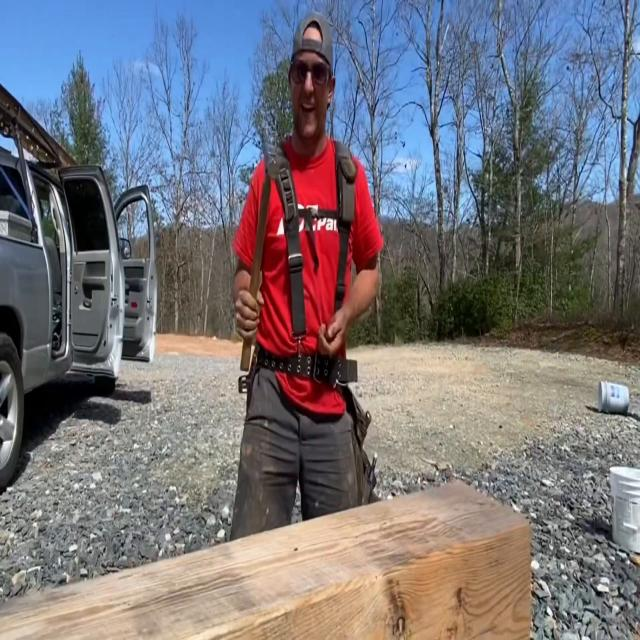hammer: (240, 134, 282, 373)
